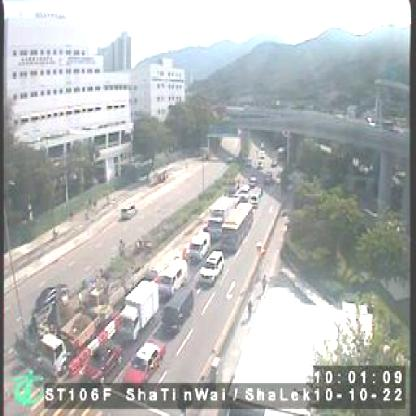Bus: (221, 202, 253, 254), (162, 288, 194, 334)
Car: (123, 338, 166, 388), (83, 338, 123, 379), (201, 250, 227, 282), (188, 233, 212, 263), (120, 200, 138, 220)
Truck: (41, 306, 100, 377), (119, 278, 161, 342), (156, 254, 188, 298), (209, 196, 235, 226)
